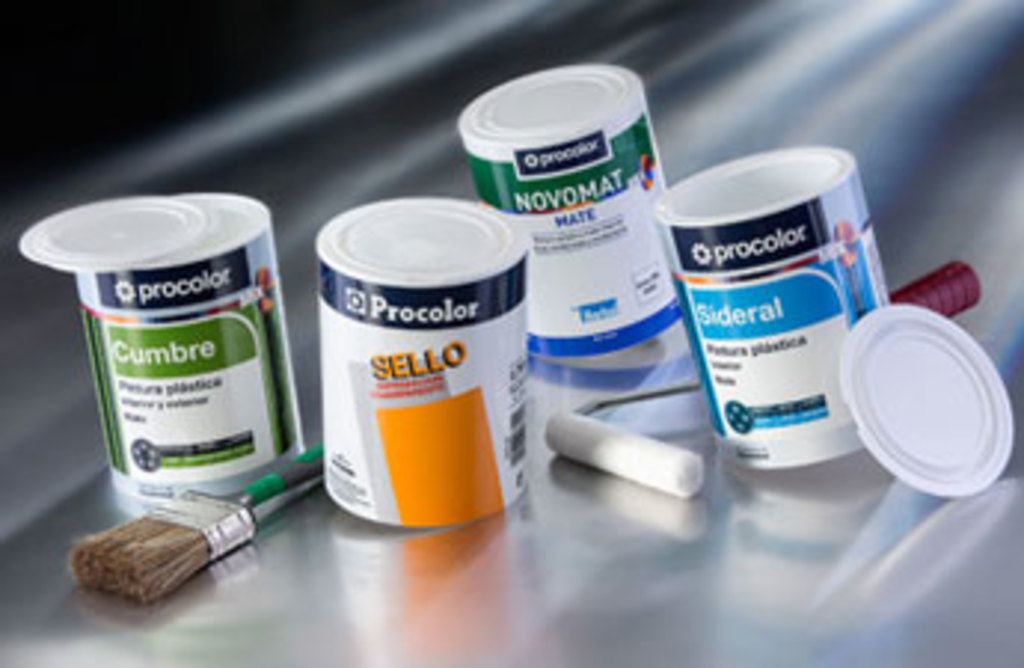plate: (838, 306, 1015, 494)
